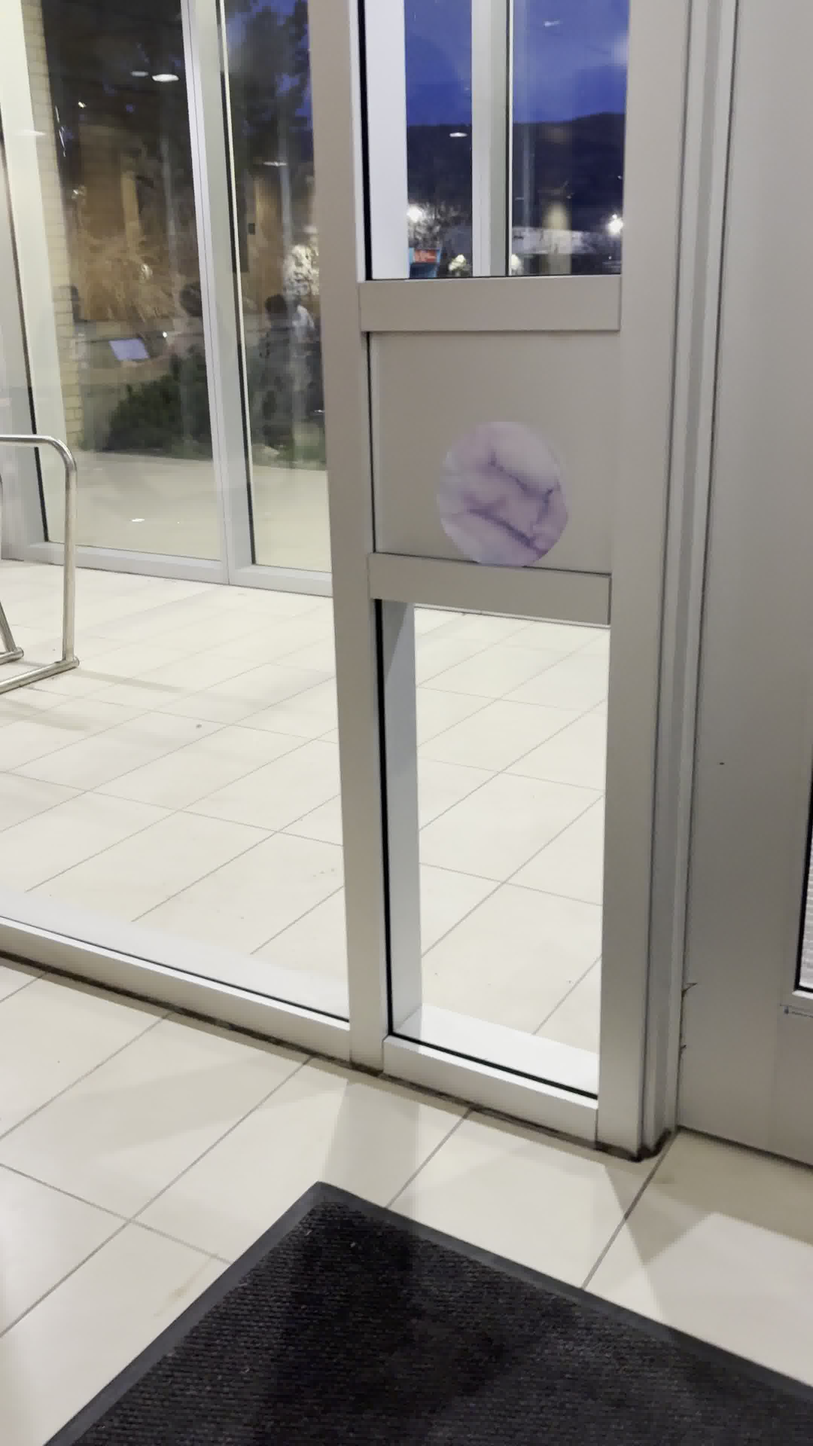Target: (435, 417, 570, 570)
